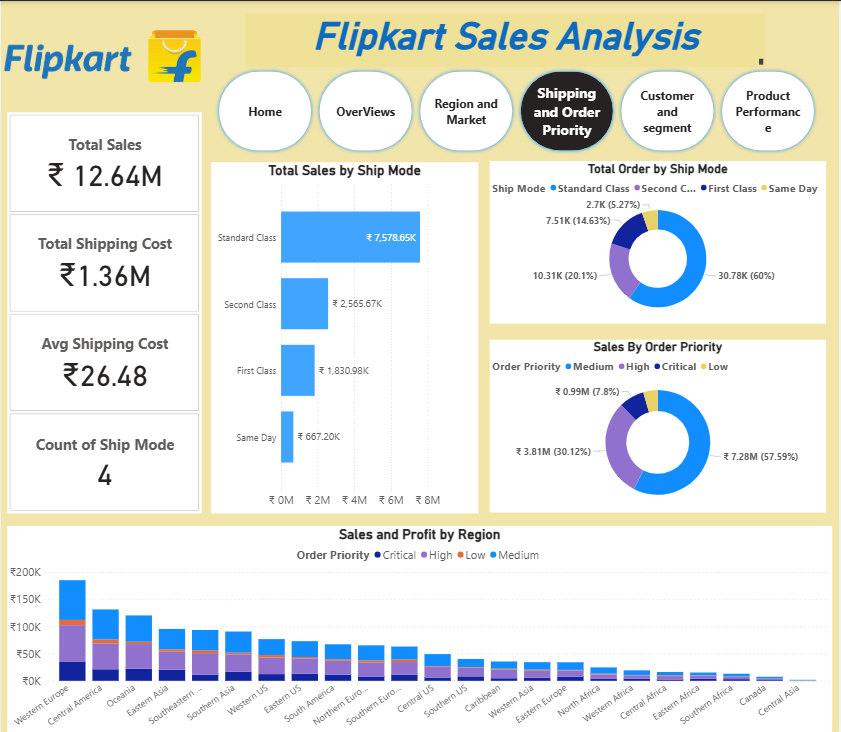

The page's visual inventory and layout, read from the dashboard file:
{"tool":"powerbi","page":{"name":"Shipping and Order Priority","canvas":[1600,1400],"ordinal":3},"visuals":[{"type":"pageNavigator","box":[408,126.4,1157.1,167],"z":0},{"type":"textbox","title":"Flipkart Sales Analysis ","box":[467.6,23.9,992.5,102.6],"z":1000},{"type":"cardVisual","fields":{"Data":["Sum(Orders.Sales)","Sum(Orders.Shipping Cost)1","Avg(Orders.Shipping Cost)","Count(Orders.Ship Mode)"]},"box":[11.9,212.3,371,765.9],"z":2000},{"type":"barChart","fields":{"Category":["Orders.Ship Mode"],"Y":["Sum(Orders.Sales)"]},"box":[400.8,307.8,510.6,670.4],"z":3000},{"type":"image","box":[0,0,388.9,210],"z":4000},{"type":"columnChart","title":" Sales and  Profit by Region","fields":{"Category":["Orders.Region"],"Series":["Orders.Order Priority"],"Y":["Sum(Orders.Shipping Cost)"]},"box":[11.9,1001.5,1574.7,398.4],"z":5000},{"type":"donutChart","title":"Total Order by Ship Mode","fields":{"Y":["CountNonNull(Orders.Order ID)"],"Category":["Orders.Ship Mode"]},"box":[932.9,305.4,641.8,310.2],"z":6000},{"type":"donutChart","title":"Sales By Order Priority","fields":{"Y":["Sum(Orders.Sales)"],"Category":["Orders.Order Priority"]},"box":[932.9,646.6,641.8,329.2],"z":7000}]}

Visuals, with their boxes in screenshot pixels (x1, y1, x2, y2), scaled from the page's 1600x1400 canvas onto the 841x732 screenshot:
pageNavigator: rect(214, 66, 823, 153)
"Flipkart Sales Analysis " textbox: rect(246, 12, 767, 66)
cardVisual - Sum(Orders.Sales) x Sum(Orders.Shipping Cost)1: rect(6, 111, 201, 511)
barChart - Orders.Ship Mode x Sum(Orders.Sales): rect(211, 161, 479, 511)
image: rect(0, 0, 204, 110)
" Sales and  Profit by Region" columnChart: rect(6, 524, 834, 731)
"Total Order by Ship Mode" donutChart: rect(490, 160, 828, 322)
"Sales By Order Priority" donutChart: rect(490, 338, 828, 510)
